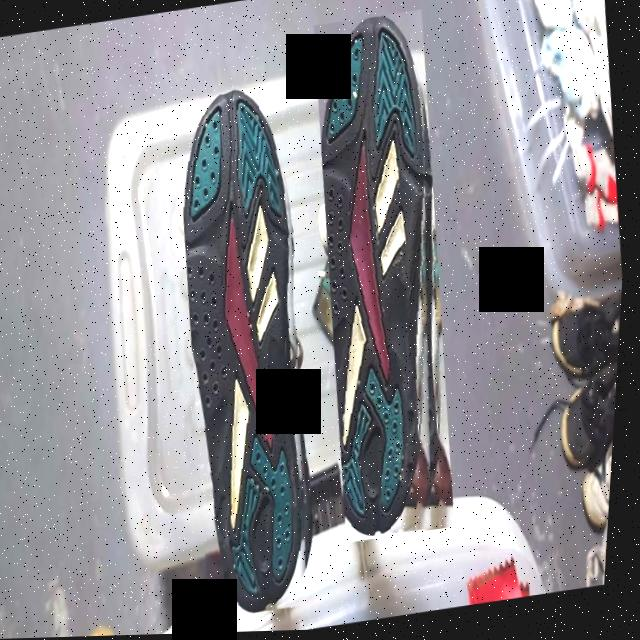shoe: (152, 79, 351, 622), (289, 10, 485, 546)
